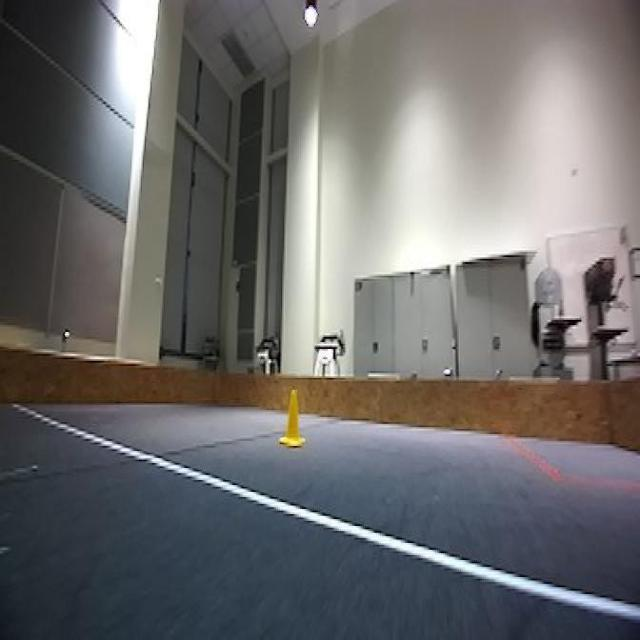frc_cone: (280, 386, 309, 446)
